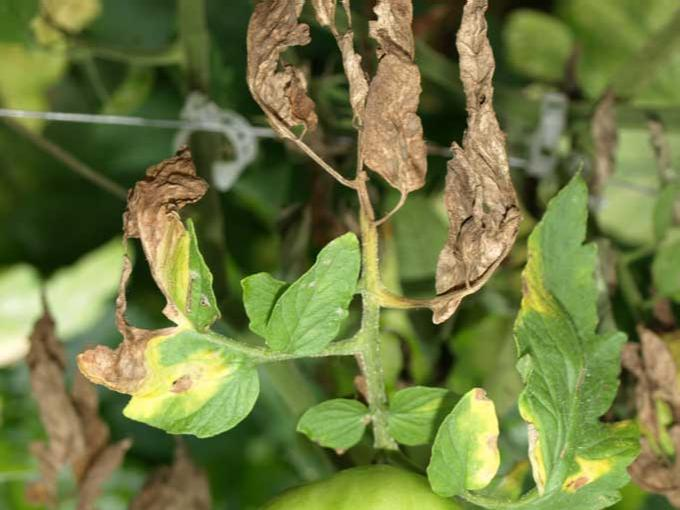Tomato Early blight leaf: (519, 161, 650, 490), (74, 326, 262, 452), (256, 230, 369, 351), (422, 375, 512, 506)
